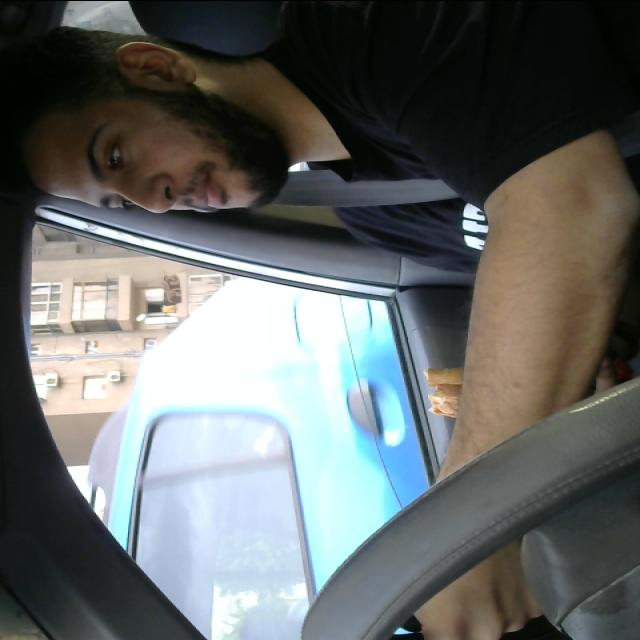eating: (414, 362, 532, 418)
